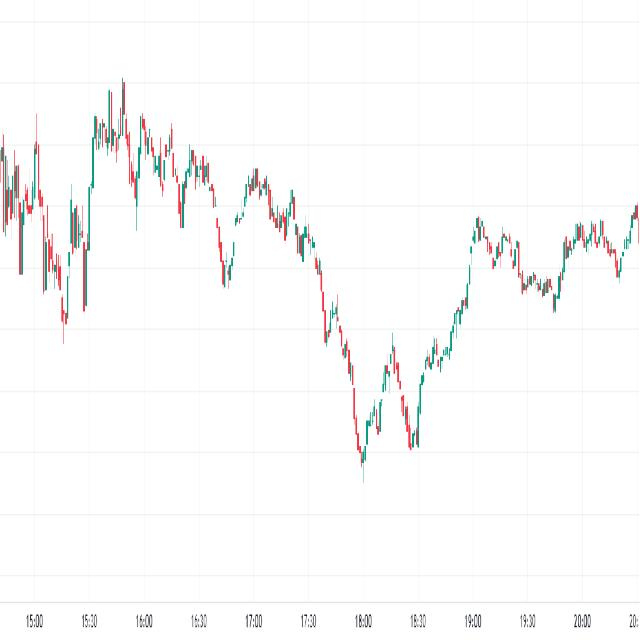Double-Bottom: (347, 322, 434, 469)
